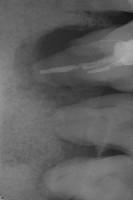Dental Caries: (14, 26, 107, 108), (37, 139, 112, 200)
